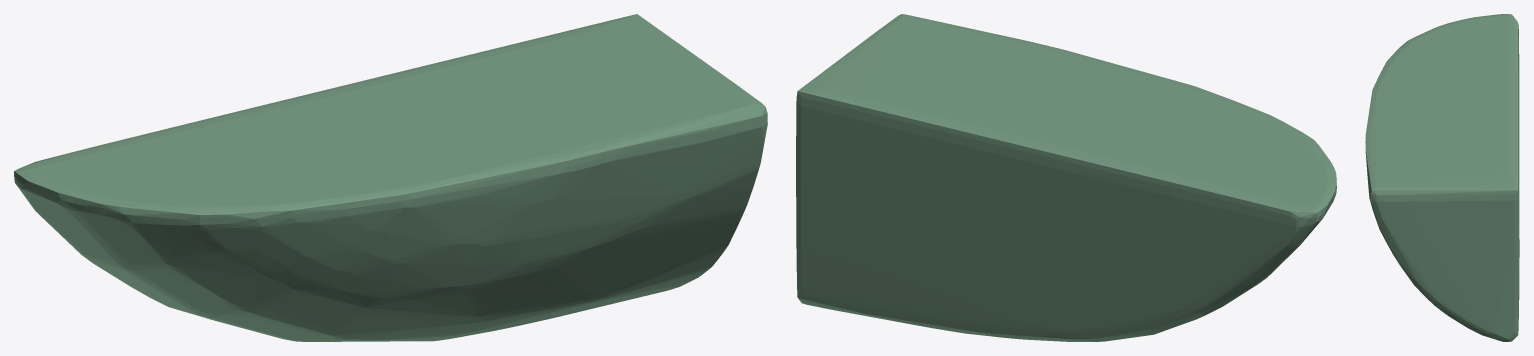
File: left-elbow-0_part_0.obj
3 views of the same model, side by side, from view 1: azimuth 30°, elevation 25°; view 2: azimuth 150°, elevation 25°; view 3: azimuth 270°, elevation 25° (orthographic). The views are drawn at different scales.
Size of the model in its own units: 0.0497 by 0.0199 by 0.0182.
